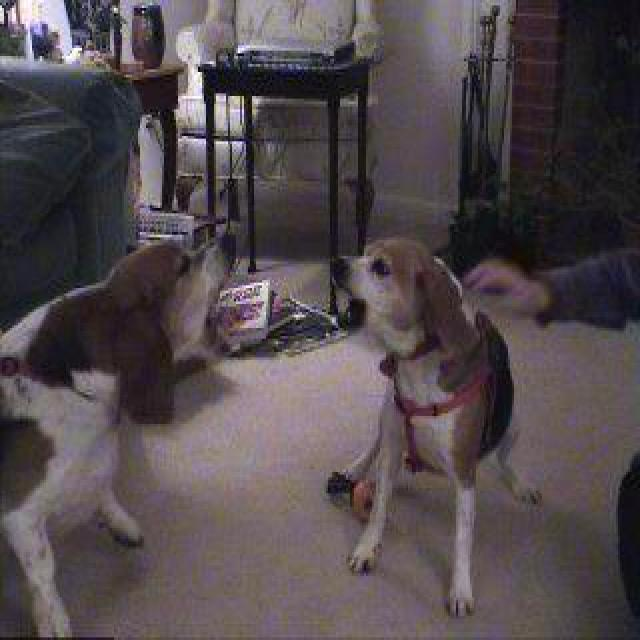beagle: (4, 235, 238, 637), (330, 230, 542, 616)
